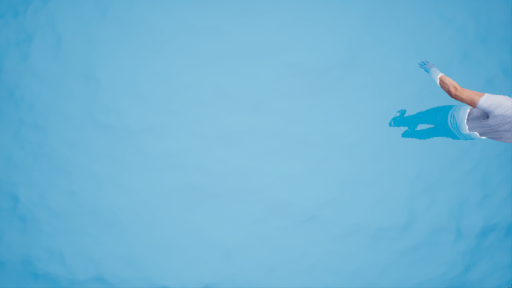person: (395, 60, 512, 156)
